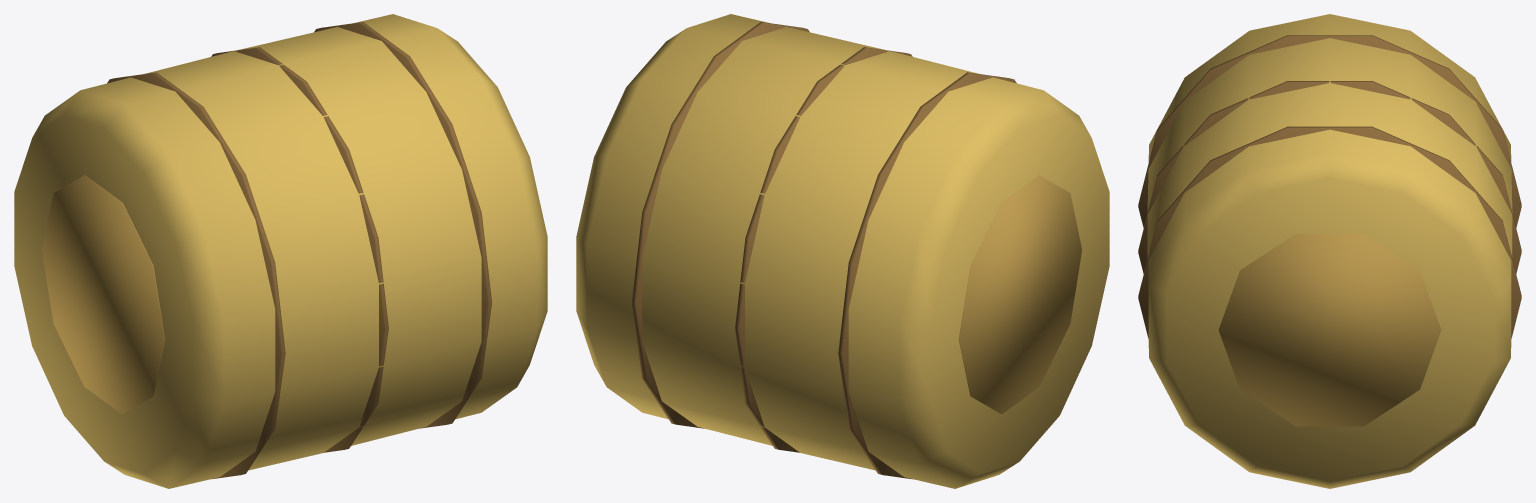
The model's file is hayBale.far.glb.
3 renders of one model, left to right at view 1: azimuth 30°, elevation 25°; view 2: azimuth 150°, elevation 25°; view 3: azimuth 270°, elevation 25°, orthographic. The views are drawn at different scales.
Visible parts, largest first — view 1: hayBale_far; view 2: hayBale_far; view 3: hayBale_far.
Part boxes in pixels (x1=…): hayBale_far: x1=14, y1=14, x2=547, y2=488; hayBale_far: x1=576, y1=14, x2=1109, y2=488; hayBale_far: x1=1138, y1=14, x2=1521, y2=488.
Size of the model in its own units: 1.21 by 1.21 by 1.24.
